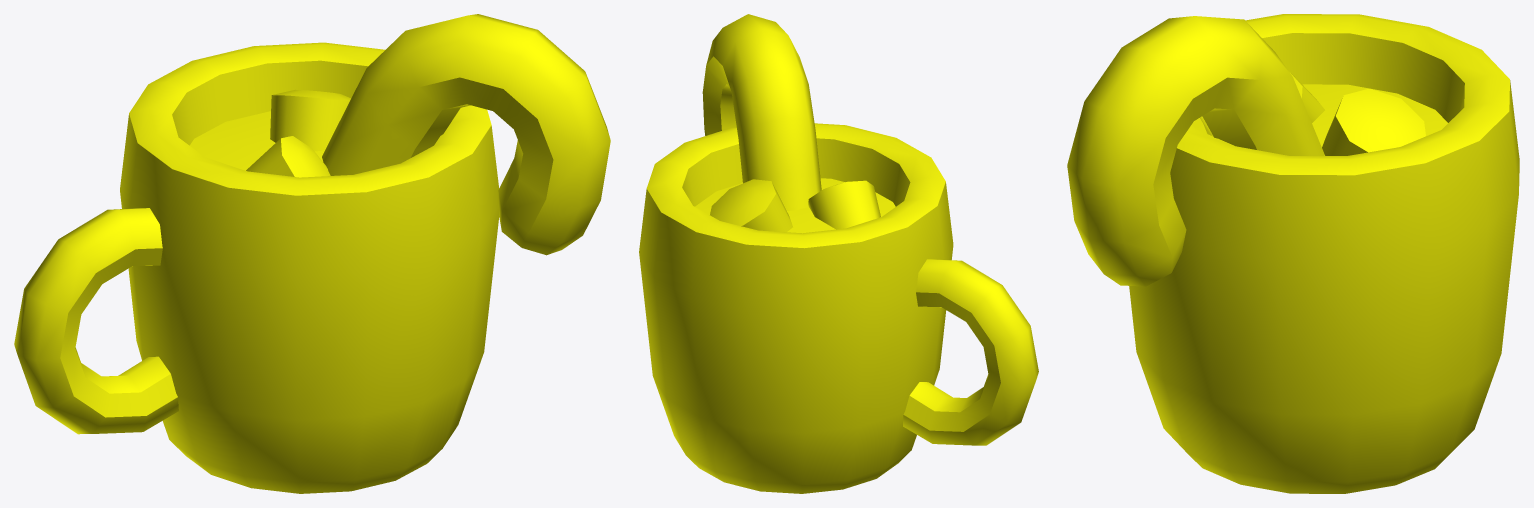
Rendered from kaykit-hot-chocolate-decorated.glb.
3 renders of one model, left to right at view 1: azimuth 30°, elevation 25°; view 2: azimuth 150°, elevation 25°; view 3: azimuth 270°, elevation 25°, orthographic. The views are drawn at different scales.
Visible parts, largest first — view 1: hot_chocolate_decorated; view 2: hot_chocolate_decorated; view 3: hot_chocolate_decorated.
Part boxes in pixels (<box>): hot_chocolate_decorated: <box>14,14,610,493</box>; hot_chocolate_decorated: <box>639,14,1038,493</box>; hot_chocolate_decorated: <box>1067,14,1519,493</box>.
Size of the model in its own units: 0.6773 by 0.579 by 0.5035.
